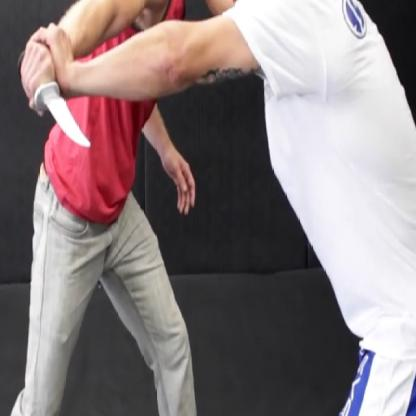knife: (15, 40, 96, 162)
